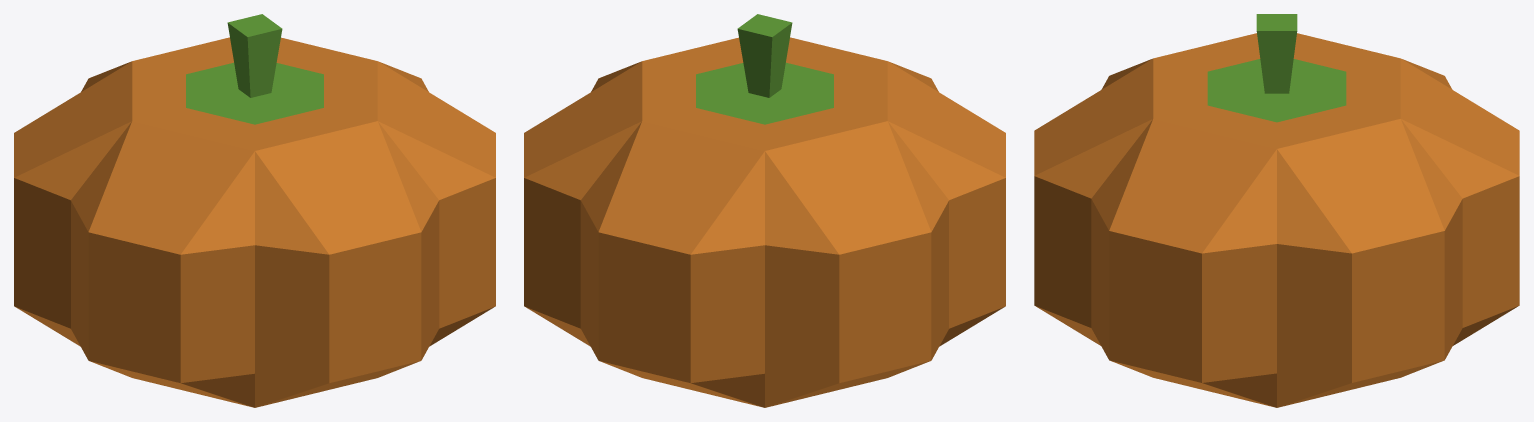
File: crop_pumpkin.glb
The picture shows the model from 3 angles, left to right: view 1: azimuth 30°, elevation 25°; view 2: azimuth 150°, elevation 25°; view 3: azimuth 270°, elevation 25°; orthographic projection.
Parts seen in each view (by area): view 1: crop_pumpkin; view 2: crop_pumpkin; view 3: crop_pumpkin.
Boxes of the visible parts, box(x1,y1,x2,y2) form: crop_pumpkin: box(14, 14, 495, 407); crop_pumpkin: box(524, 14, 1005, 407); crop_pumpkin: box(1034, 14, 1519, 407).
Size of the model in its own units: 0.661 by 0.5 by 0.6769.
